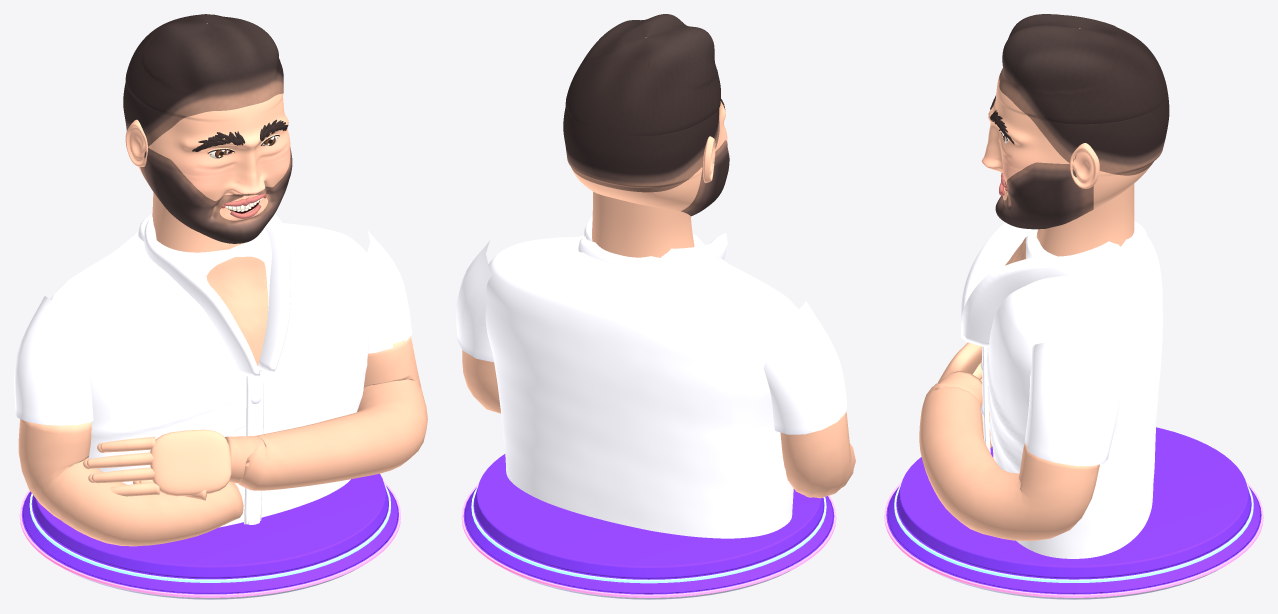
The model's file is about-me.glb.
3 views of the same model, side by side, from view 1: azimuth 30°, elevation 25°; view 2: azimuth 150°, elevation 25°; view 3: azimuth 270°, elevation 25° (orthographic).
Parts seen in each view (by area): view 1: about-me; view 2: about-me; view 3: about-me.
Part boxes in pixels (box(x1,y1,x2,y2)): about-me: box(14, 14, 427, 599); about-me: box(456, 14, 855, 599); about-me: box(884, 14, 1263, 599).
Size of the model in its own units: 1.61 by 2 by 1.38.
